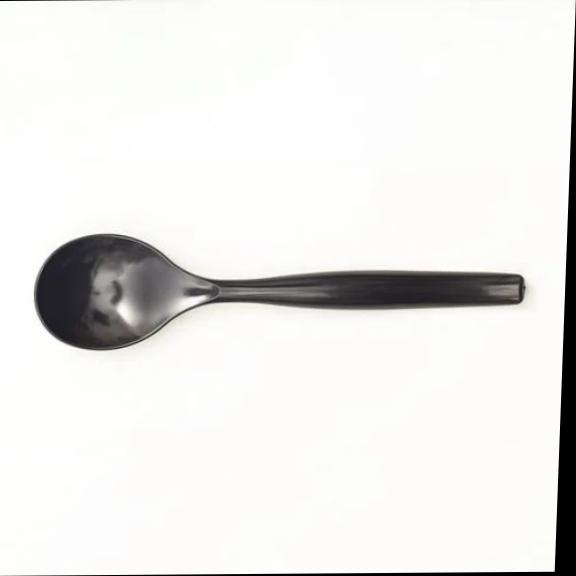Plastik: (36, 233, 523, 349)
